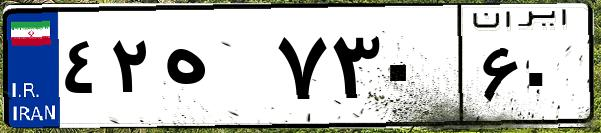0: (385, 28, 445, 110), (525, 38, 570, 115)
2: (110, 28, 158, 98)
3: (330, 28, 385, 110)
4: (57, 26, 110, 100)
6: (475, 38, 525, 113)
7: (270, 28, 330, 110)
ه: (158, 20, 270, 120)
